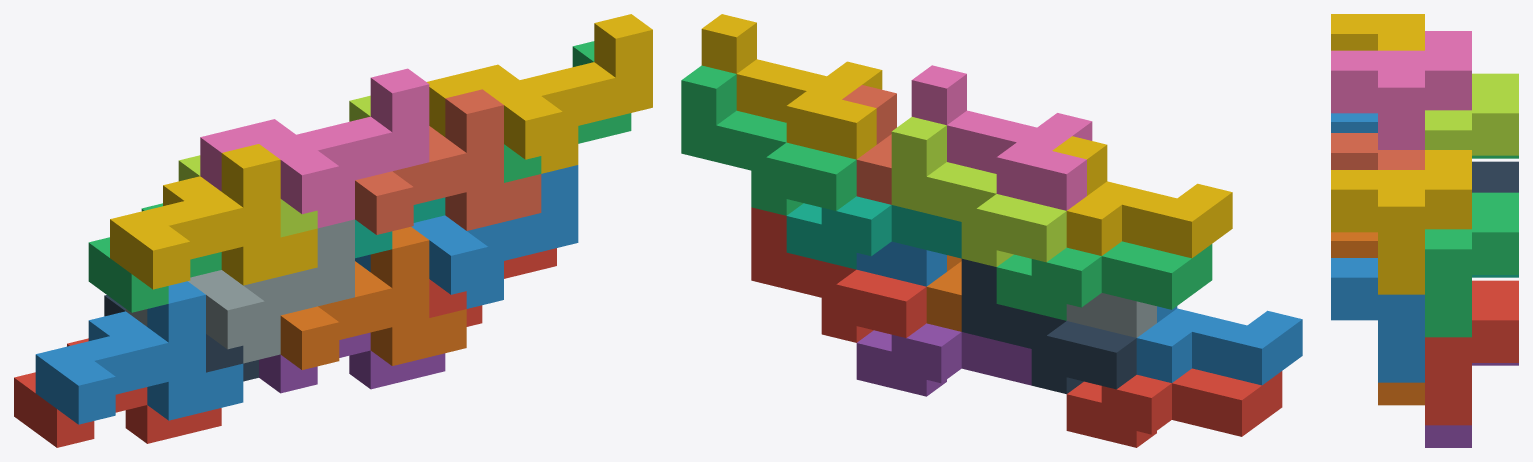
Rendered from tiling.obj.
The picture shows the model from 3 angles, left to right: view 1: azimuth 30°, elevation 25°; view 2: azimuth 150°, elevation 25°; view 3: azimuth 270°, elevation 25°; orthographic projection. The views are drawn at different scales.
Parts seen in each view (by area): view 1: copy_1_domain_4, copy_1_domain_2, copy_2_domain_4, copy_2_domain_8, copy_1_domain_8, copy_1_domain_6, copy_2_domain_6, copy_2_domain_2, copy_1_domain_1, copy_1_domain_5, copy_1_domain_3, copy_2_domain_7 (+4 smaller); view 2: copy_2_domain_7, copy_2_domain_3, copy_2_domain_8, copy_2_domain_4, copy_1_domain_1, copy_1_domain_3, copy_1_domain_4, copy_2_domain_1, copy_2_domain_5, copy_1_domain_2, copy_1_domain_5, copy_1_domain_7 (+4 smaller); view 3: copy_2_domain_8, copy_2_domain_4, copy_2_domain_7, copy_2_domain_5, copy_2_domain_6, copy_2_domain_3, copy_1_domain_4, copy_1_domain_8, copy_1_domain_6, copy_2_domain_1, copy_1_domain_5, copy_1_domain_2.
Boxes of the visible parts, left/top/right/bottom form: copy_1_domain_4: left=110, top=144, right=317, bottom=289; copy_1_domain_2: left=35, top=281, right=243, bottom=424; copy_2_domain_4: left=200, top=68, right=429, bottom=228; copy_2_domain_8: left=427, top=14, right=652, bottom=173; copy_1_domain_8: left=355, top=89, right=541, bottom=234; copy_1_domain_6: left=280, top=226, right=466, bottom=369; copy_2_domain_6: left=355, top=165, right=578, bottom=308; copy_2_domain_2: left=125, top=219, right=354, bottom=363; copy_1_domain_1: left=14, top=338, right=221, bottom=447; copy_1_domain_5: left=259, top=332, right=445, bottom=393; copy_1_domain_3: left=88, top=203, right=221, bottom=312; copy_2_domain_7: left=504, top=41, right=631, bottom=182; copy_2_domain_7: left=681, top=65, right=856, bottom=215; copy_2_domain_3: left=891, top=117, right=1066, bottom=266; copy_2_domain_8: left=701, top=14, right=882, bottom=159; copy_2_domain_4: left=911, top=65, right=1092, bottom=210; copy_1_domain_1: left=1066, top=368, right=1282, bottom=447; copy_1_domain_3: left=996, top=241, right=1212, bottom=320; copy_1_domain_4: left=1052, top=136, right=1232, bottom=258; copy_2_domain_1: left=961, top=258, right=1136, bottom=394; copy_2_domain_5: left=751, top=207, right=926, bottom=342; copy_1_domain_2: left=1136, top=306, right=1302, bottom=385; copy_1_domain_5: left=856, top=323, right=1031, bottom=396; copy_1_domain_7: left=786, top=196, right=961, bottom=269; copy_2_domain_8: left=1331, top=150, right=1471, bottom=294; copy_2_domain_4: left=1331, top=31, right=1471, bottom=149; copy_2_domain_7: left=1425, top=192, right=1518, bottom=337; copy_2_domain_5: left=1425, top=280, right=1518, bottom=425; copy_2_domain_6: left=1331, top=258, right=1424, bottom=382; copy_2_domain_3: left=1425, top=73, right=1518, bottom=155; copy_1_domain_4: left=1331, top=14, right=1424, bottom=50; copy_1_domain_8: left=1331, top=133, right=1424, bottom=169; copy_1_domain_6: left=1331, top=232, right=1424, bottom=405; copy_2_domain_1: left=1472, top=161, right=1518, bottom=192; copy_1_domain_5: left=1425, top=363, right=1518, bottom=447; copy_1_domain_2: left=1331, top=113, right=1377, bottom=132.
Bounding box in the file's own units: 16 × 8 × 4.
